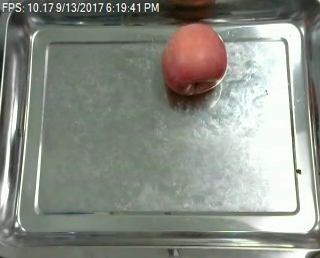Apple: (160, 20, 229, 101)
